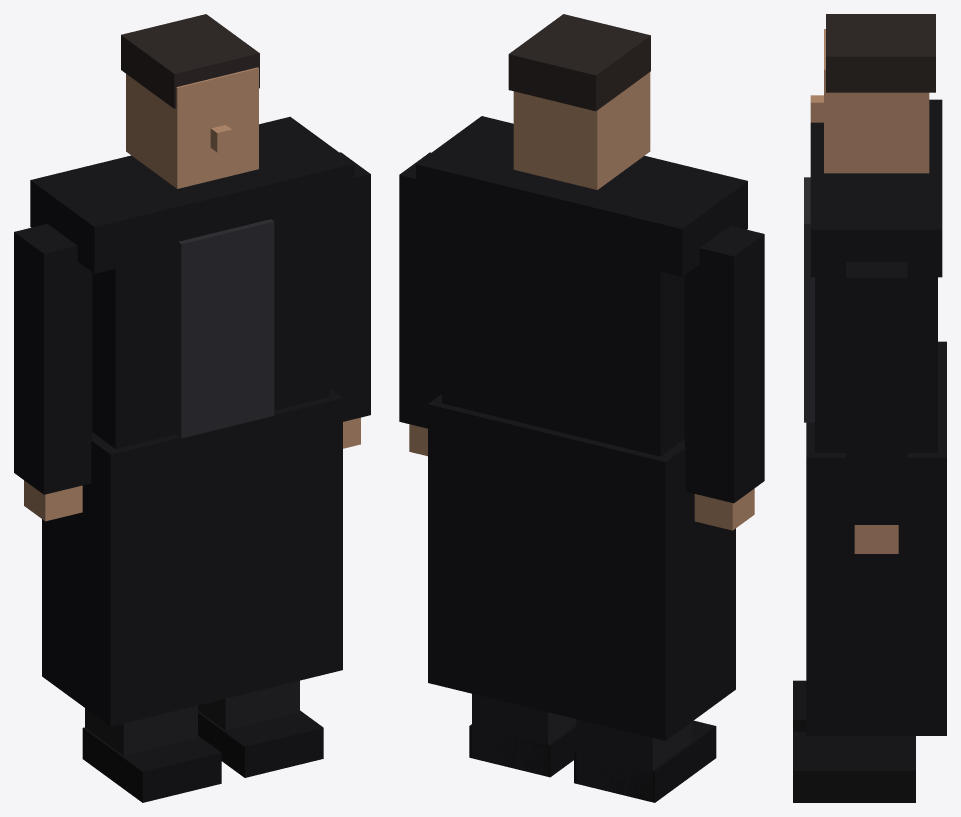
Rendered from CHR_Enforcer01.glb.
3 views of the same model, side by side, from view 1: azimuth 30°, elevation 25°; view 2: azimuth 150°, elevation 25°; view 3: azimuth 270°, elevation 25° (orthographic). The views are drawn at different scales.
Visible parts, largest first — view 1: CHR_Enforcer01_Coat_Geo, CHR_Enforcer01_Shoulders_Geo, CHR_Enforcer01_Chest_Geo, CHR_Enforcer01_ArmL_Geo, CHR_Enforcer01_Front_Geo, CHR_Enforcer01_Skull_Geo, CHR_Enforcer01_ArmR_Geo, CHR_Enforcer01_Hair_Geo, CHR_Enforcer01_ShoeL_Geo, CHR_Enforcer01_ShoeR_Geo, CHR_Enforcer01_LegL_Geo, CHR_Enforcer01_LegR_Geo (+1 smaller); view 2: CHR_Enforcer01_Coat_Geo, CHR_Enforcer01_Chest_Geo, CHR_Enforcer01_Shoulders_Geo, CHR_Enforcer01_ArmL_Geo, CHR_Enforcer01_Skull_Geo, CHR_Enforcer01_Hair_Geo, CHR_Enforcer01_ArmR_Geo, CHR_Enforcer01_LegL_Geo, CHR_Enforcer01_LegR_Geo, CHR_Enforcer01_ShoeL_Geo, CHR_Enforcer01_ShoeR_Geo, CHR_Enforcer01_HandL_Geo; view 3: CHR_Enforcer01_Coat_Geo, CHR_Enforcer01_ArmR_Geo, CHR_Enforcer01_Shoulders_Geo, CHR_Enforcer01_Chest_Geo, CHR_Enforcer01_Skull_Geo, CHR_Enforcer01_Hair_Geo, CHR_Enforcer01_ShoeR_Geo, CHR_Enforcer01_LegR_Geo, CHR_Enforcer01_Front_Geo, CHR_Enforcer01_HandR_Geo, CHR_Enforcer01_ShoeL_Geo, CHR_Enforcer01_Nose_Geo.
Boxes of the visible parts, x1,y1,x2,y2 form: CHR_Enforcer01_Coat_Geo: [42, 388, 342, 726]; CHR_Enforcer01_Shoulders_Geo: [30, 116, 354, 273]; CHR_Enforcer01_Chest_Geo: [92, 216, 329, 448]; CHR_Enforcer01_ArmL_Geo: [14, 224, 92, 494]; CHR_Enforcer01_Front_Geo: [176, 219, 274, 438]; CHR_Enforcer01_Skull_Geo: [126, 67, 258, 188]; CHR_Enforcer01_ArmR_Geo: [329, 152, 370, 421]; CHR_Enforcer01_Hair_Geo: [121, 14, 259, 108]; CHR_Enforcer01_ShoeL_Geo: [82, 727, 221, 802]; CHR_Enforcer01_ShoeR_Geo: [198, 710, 323, 777]; CHR_Enforcer01_LegL_Geo: [85, 705, 197, 755]; CHR_Enforcer01_LegR_Geo: [198, 680, 299, 730]; CHR_Enforcer01_Coat_Geo: [428, 394, 735, 740]; CHR_Enforcer01_Chest_Geo: [442, 218, 684, 456]; CHR_Enforcer01_Shoulders_Geo: [416, 116, 747, 276]; CHR_Enforcer01_ArmL_Geo: [684, 225, 764, 503]; CHR_Enforcer01_Skull_Geo: [513, 72, 650, 189]; CHR_Enforcer01_Hair_Geo: [508, 14, 650, 111]; CHR_Enforcer01_ArmR_Geo: [399, 152, 441, 428]; CHR_Enforcer01_LegL_Geo: [576, 719, 691, 801]; CHR_Enforcer01_LegR_Geo: [472, 694, 576, 776]; CHR_Enforcer01_ShoeL_Geo: [574, 720, 716, 802]; CHR_Enforcer01_ShoeR_Geo: [469, 724, 576, 777]; CHR_Enforcer01_HandL_Geo: [694, 488, 754, 530]; CHR_Enforcer01_Coat_Geo: [806, 341, 946, 735]; CHR_Enforcer01_ArmR_Geo: [846, 261, 907, 524]; CHR_Enforcer01_Shoulders_Geo: [810, 99, 942, 277]; CHR_Enforcer01_Chest_Geo: [815, 277, 937, 452]; CHR_Enforcer01_Skull_Geo: [824, 29, 929, 173]; CHR_Enforcer01_Hair_Geo: [826, 14, 935, 92]; CHR_Enforcer01_ShoeR_Geo: [793, 731, 915, 802]; CHR_Enforcer01_LegR_Geo: [837, 736, 915, 769]; CHR_Enforcer01_Front_Geo: [804, 177, 814, 422]; CHR_Enforcer01_HandR_Geo: [854, 525, 898, 553]; CHR_Enforcer01_ShoeL_Geo: [793, 680, 806, 731]; CHR_Enforcer01_Nose_Geo: [810, 95, 823, 122].
Bounding box in the file's own units: 0.9289 × 1.92 × 0.3694.
